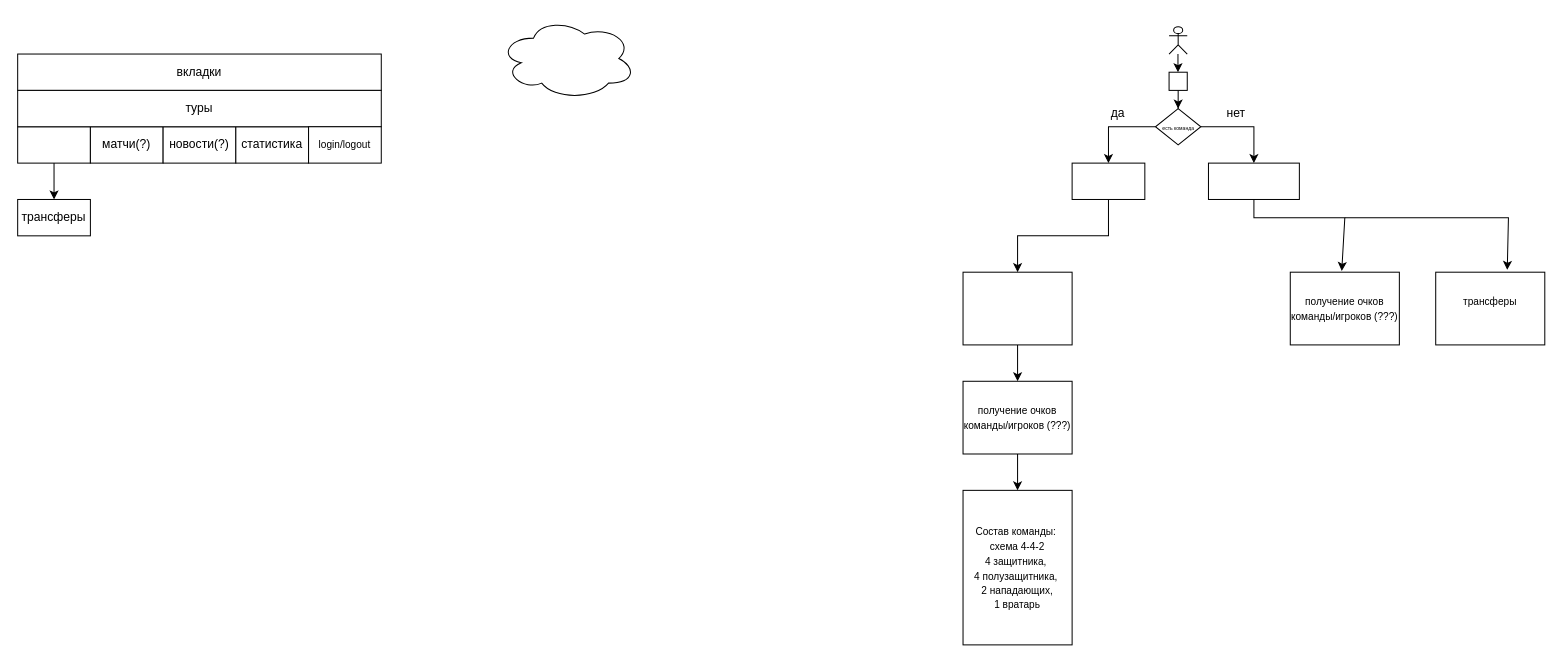
This 1562x663 diagram has some shape labels left out. The box of each missing label's shape, as (x1, y1, x2, y2) in pixels:
выбор игроков на разные позиции (сначала только таблица, потом мб поле): (962, 271, 1072, 345)
команда: (17, 126, 90, 163)
логин: (1168, 71, 1187, 90)
просмотр/редактирование: (1207, 162, 1299, 199)
система баллов: (498, 17, 636, 99)
создание: (1071, 162, 1145, 199)
